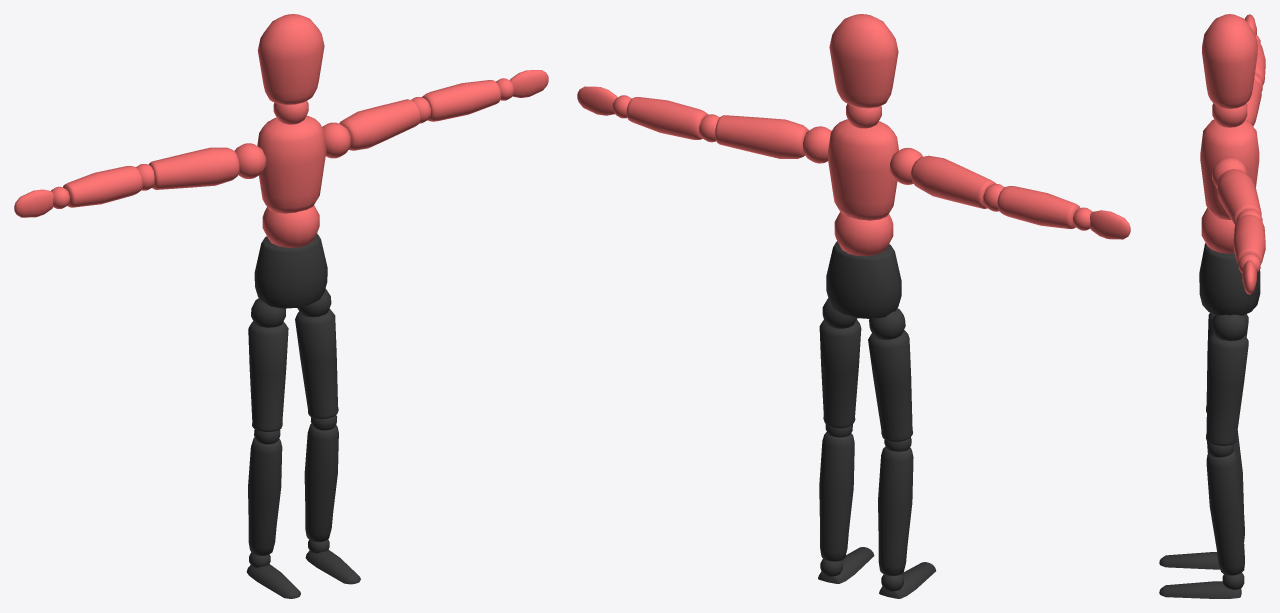
The model's file is SusanTest4.dae.
3 views of the same model, side by side, from view 1: azimuth 30°, elevation 25°; view 2: azimuth 150°, elevation 25°; view 3: azimuth 270°, elevation 25° (orthographic). The views are drawn at different scales.
Visible parts, largest first — view 1: Upper_Body, Head, Figure, Right_Thigh, Left_Thigh, Right_Shin, Left_Shin, Right_Upper_Arm, Left_Upper_Arm, Right_Lower_Arm, Left_Lower_Arm, Joint (+6 smaller); view 2: Upper_Body, Head, Figure, Right_Shin, Left_Shin, Right_Thigh, Left_Thigh, Left_Upper_Arm, Right_Upper_Arm, Right_Lower_Arm, Left_Lower_Arm, Joint (+6 smaller); view 3: Head, Left_Thigh, Left_Shin, Upper_Body, Figure, Left_Joint (×5), Left_Upper_Arm, Left_Lower_Arm, Left_Foot, Joint, Right_Foot, Neck (+5 smaller).
Part boxes in pixels (x1,y1,x2,y2): Upper_Body: (257,115,326,213); Head: (257,14,324,105); Figure: (254,233,327,308); Right_Thigh: (248,321,288,431); Left_Thigh: (295,308,338,419); Right_Shin: (248,437,282,555); Left_Shin: (304,423,338,542); Right_Upper_Arm: (148,147,239,189); Left_Upper_Arm: (339,99,420,150); Right_Lower_Arm: (63,166,142,207); Left_Lower_Arm: (422,80,500,121); Joint: (262,205,319,247); Upper_Body: (827,119,898,220); Head: (829,14,898,108); Figure: (826,241,901,318); Right_Shin: (878,446,913,575); Left_Shin: (819,432,854,561); Right_Thigh: (868,330,912,441); Left_Thigh: (819,319,861,428); Left_Upper_Arm: (715,115,808,158); Right_Upper_Arm: (911,155,995,208); Right_Lower_Arm: (997,186,1080,228); Left_Lower_Arm: (626,97,708,139); Joint: (834,212,893,256); Head: (1202,14,1257,109); Left_Thigh: (1206,333,1248,445); Left_Shin: (1206,450,1244,575); Upper_Body: (1200,119,1259,219); Figure: (1199,243,1260,315); Left_Joint (×5): (1207,157,1260,589); Left_Upper_Arm: (1217,169,1261,225); Left_Lower_Arm: (1233,214,1265,264); Left_Foot: (1159,581,1241,598); Joint: (1201,207,1234,253); Right_Foot: (1159,552,1220,569); Neck: (1212,103,1247,127).
Bounding box in the file's own units: 610 × 600 × 103.
